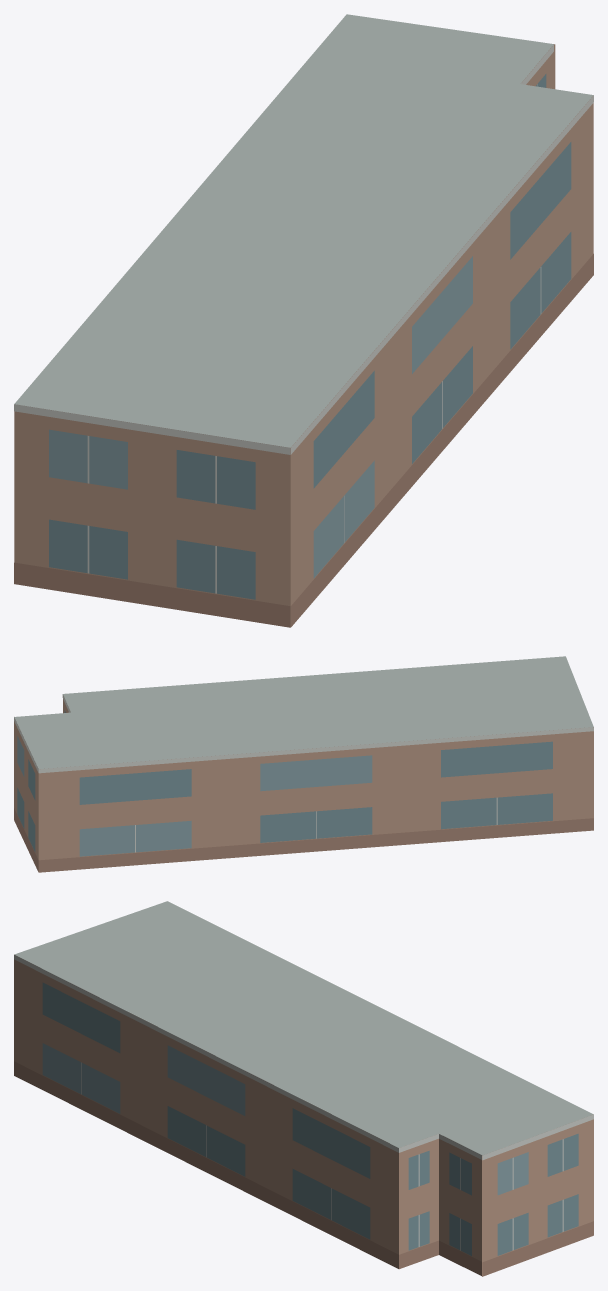
File: survey-upis-32751897.glb
3 views of the same model, one above another, from view 1: azimuth 30°, elevation 25°; view 2: azimuth 150°, elevation 25°; view 3: azimuth 270°, elevation 25° (orthographic). The views are drawn at different scales.
Parts seen in each view (by area): view 1: survey-upis-32751897.tmp; view 2: survey-upis-32751897.tmp; view 3: survey-upis-32751897.tmp.
Part boxes in pixels (x1,y1,x2,y2): survey-upis-32751897.tmp: [14, 14, 593, 627]; survey-upis-32751897.tmp: [14, 656, 593, 872]; survey-upis-32751897.tmp: [14, 901, 593, 1276].
Bounding box in the file's own units: 27.5 × 6.1 × 26.46.
